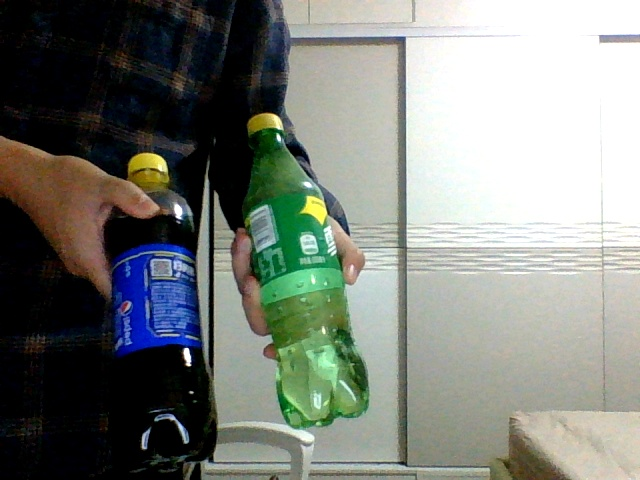Cola: (103, 153, 216, 465)
Sprite: (241, 114, 370, 425)
